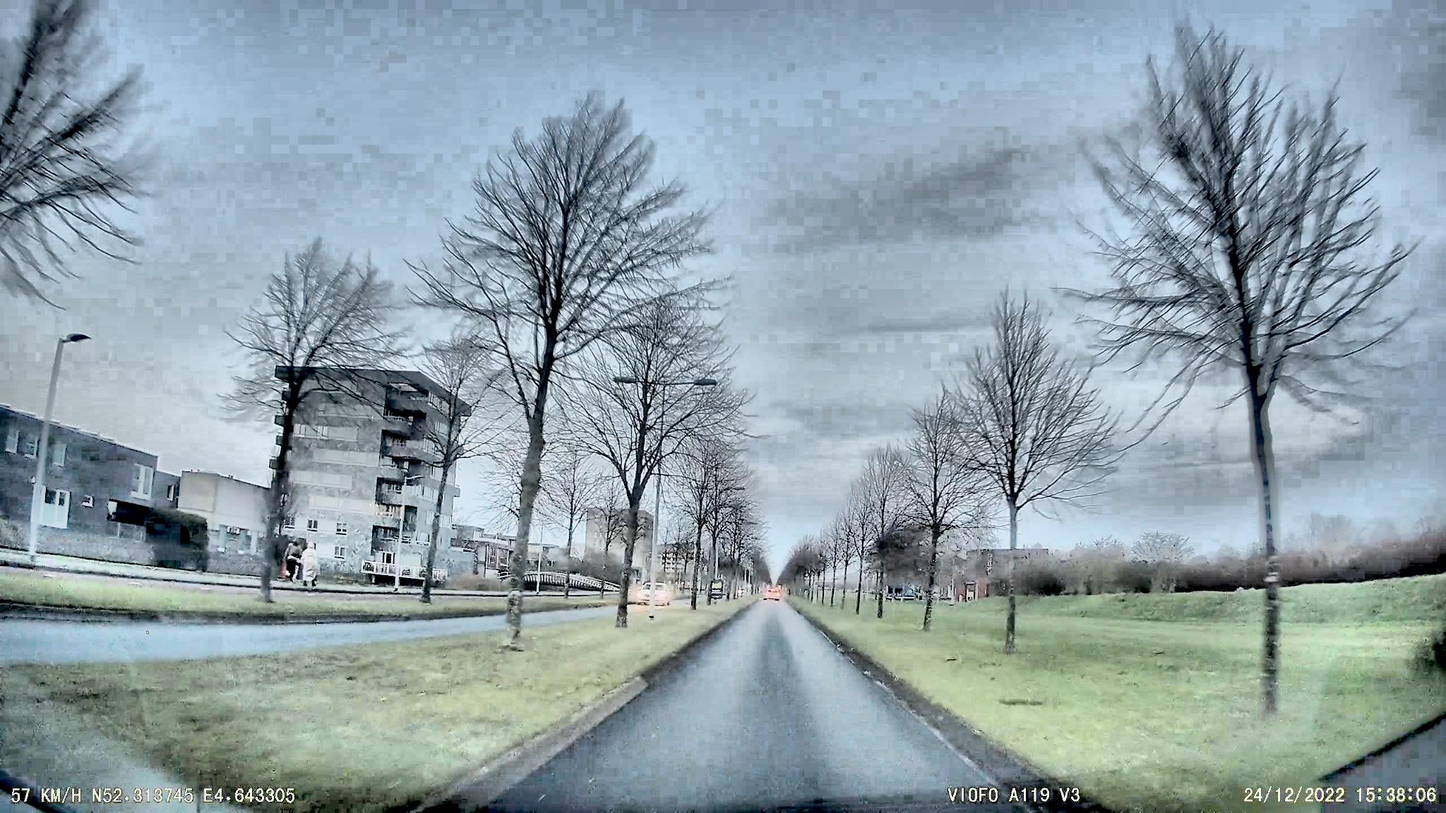Roads: (515, 607, 1046, 813)
